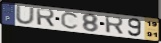8: (82, 13, 101, 33)
9: (128, 18, 143, 37)
C: (60, 11, 81, 30)
R: (104, 15, 125, 36), (35, 8, 56, 28)
U: (15, 6, 36, 26)
